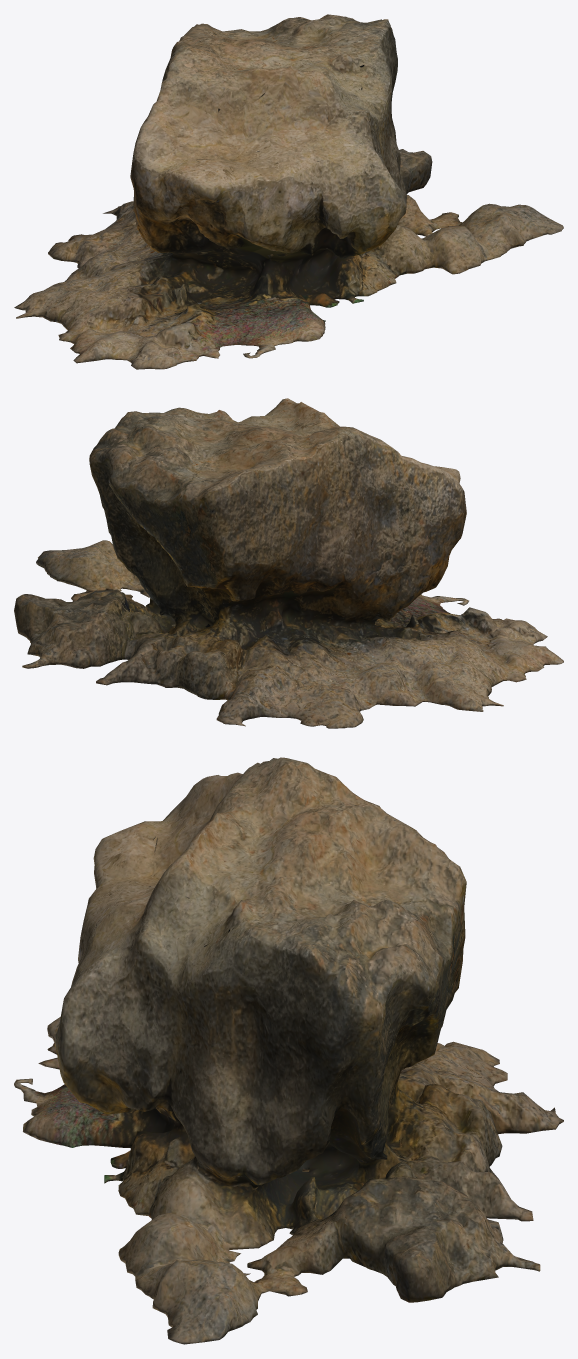
Rendered from coast_rocks_05_lod1.glb.
3 renders of one model, top to bottom at view 1: azimuth 30°, elevation 25°; view 2: azimuth 150°, elevation 25°; view 3: azimuth 270°, elevation 25°, orthographic. The views are drawn at different scales.
Parts seen in each view (by area): view 1: coast_rocks_05_clean_LOD1; view 2: coast_rocks_05_clean_LOD1; view 3: coast_rocks_05_clean_LOD1.
Part boxes in pixels (x1,y1,x2,y2): coast_rocks_05_clean_LOD1: [14, 14, 563, 369]; coast_rocks_05_clean_LOD1: [14, 398, 563, 728]; coast_rocks_05_clean_LOD1: [14, 757, 563, 1344].
Bounding box in the file's own units: 1.9 × 0.8513 × 1.23.
Materials: 1 (1 with a texture image).
